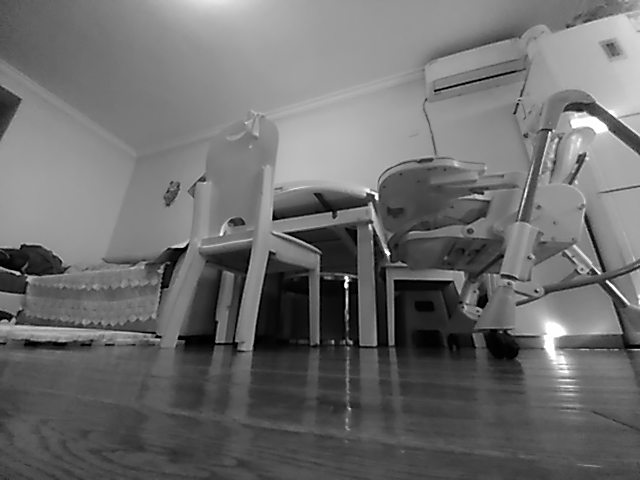carpet: (1, 323, 165, 349)
